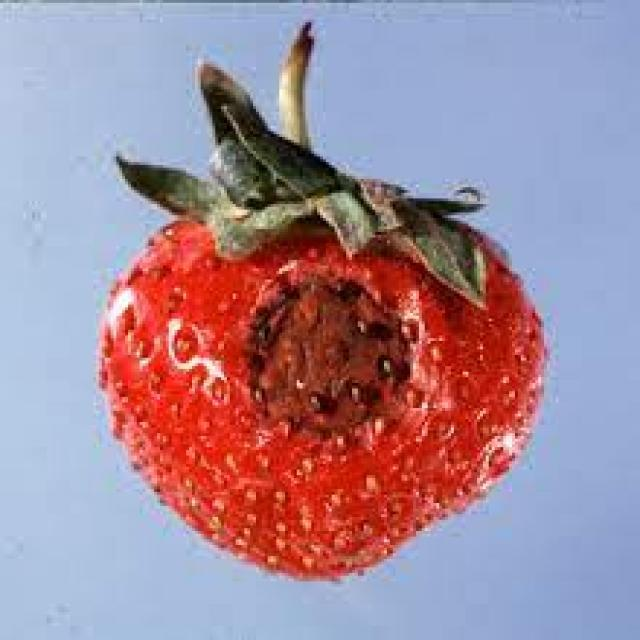Mancha negra Antracnosis: (109, 200, 546, 598)
